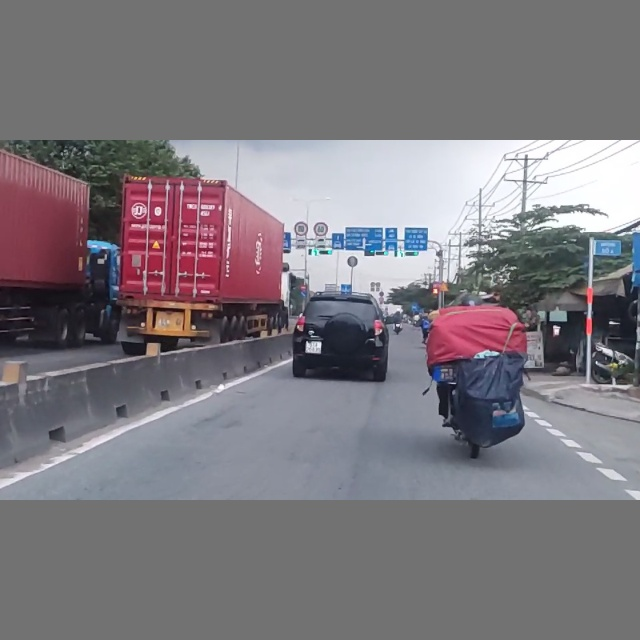P.102: (300, 285, 307, 291)
P.127*60: (313, 221, 329, 238)
P.127*80: (294, 221, 309, 236)
R.302a: (301, 291, 307, 297)
